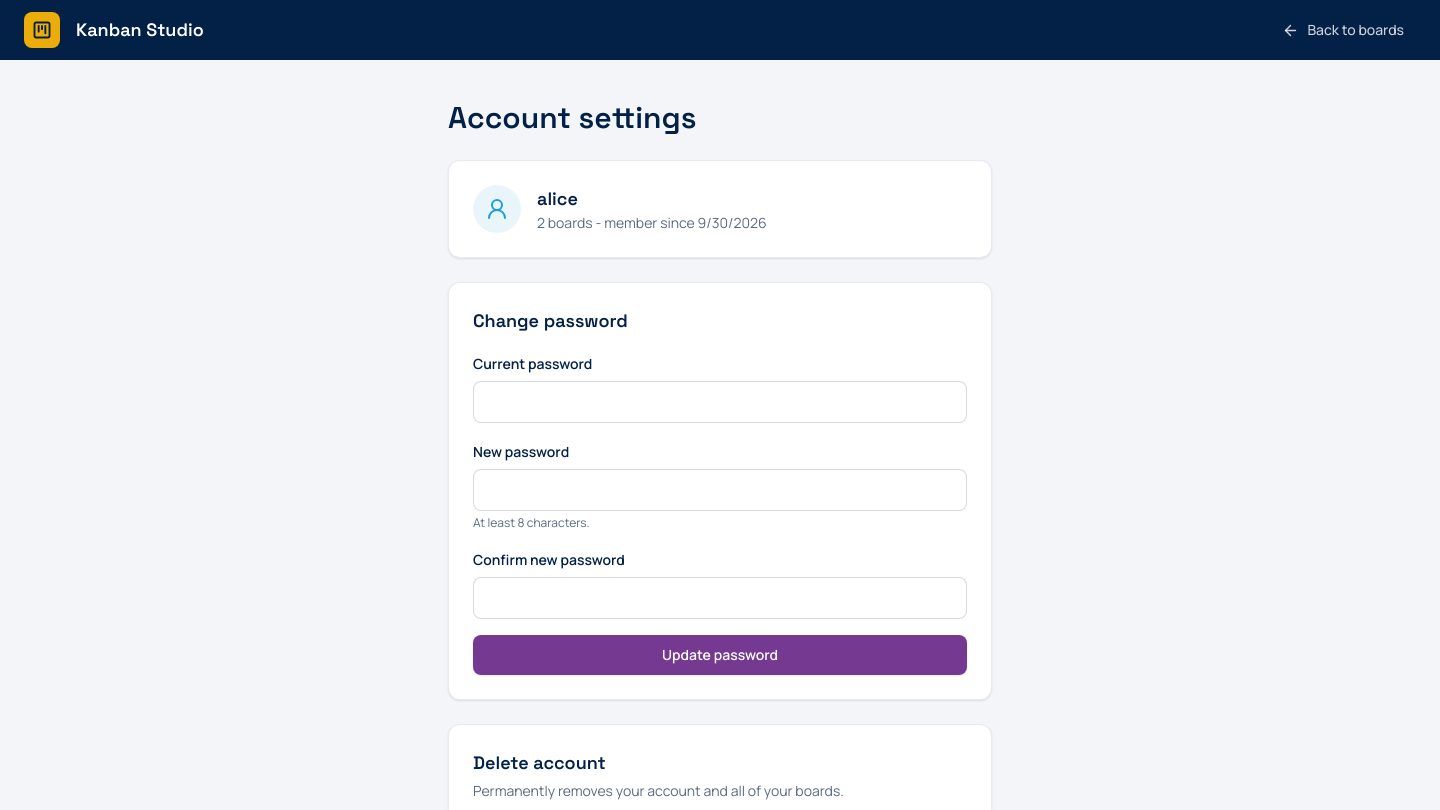
Test: AccountSettings › changes the password and clears the form
The image size is (1440, 810).
Type "old-password" into the password field labelled "Current password" at [720, 402], box [473,381,967,423]
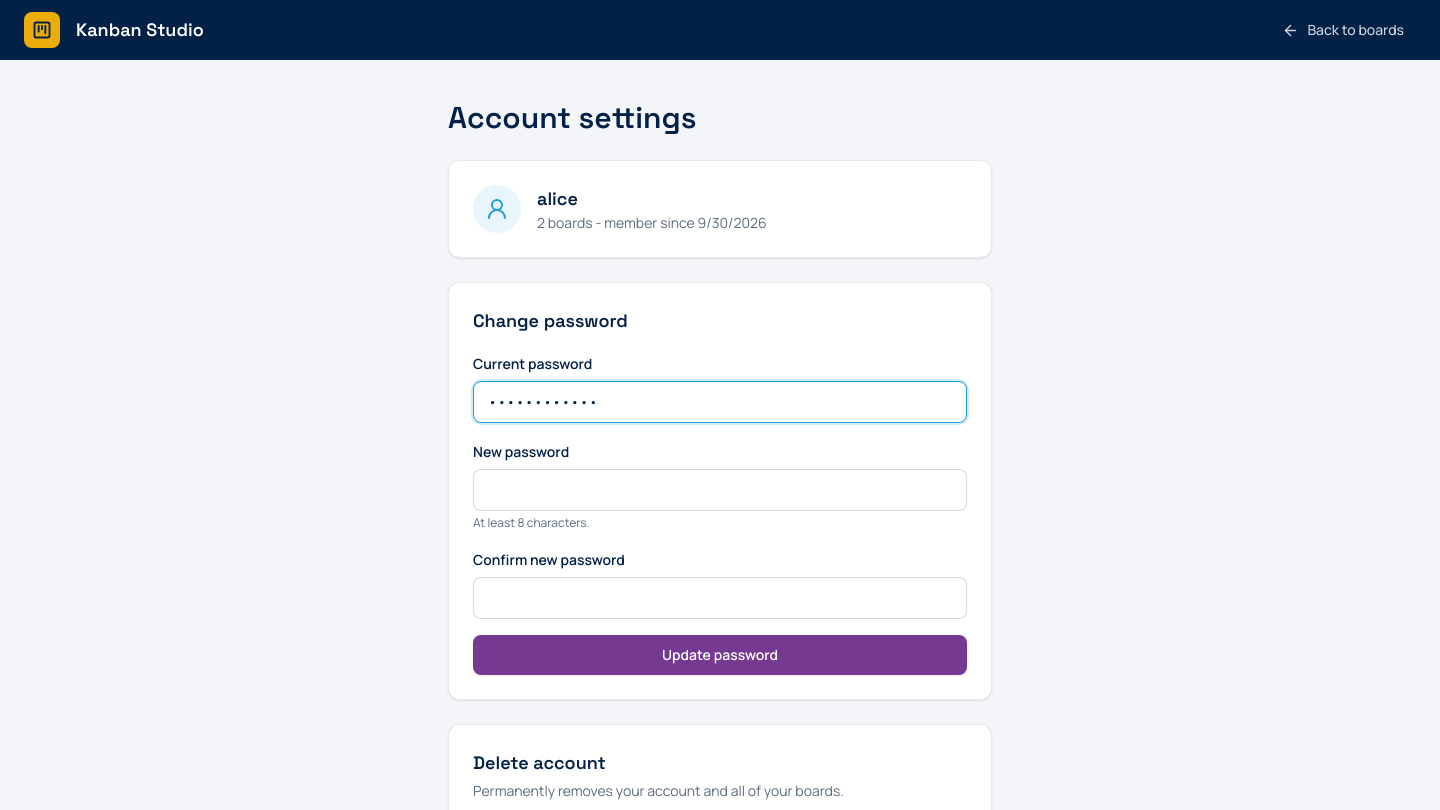
Type "new-password" into the password field labelled "New password" at [720, 490], box [473,469,967,511]
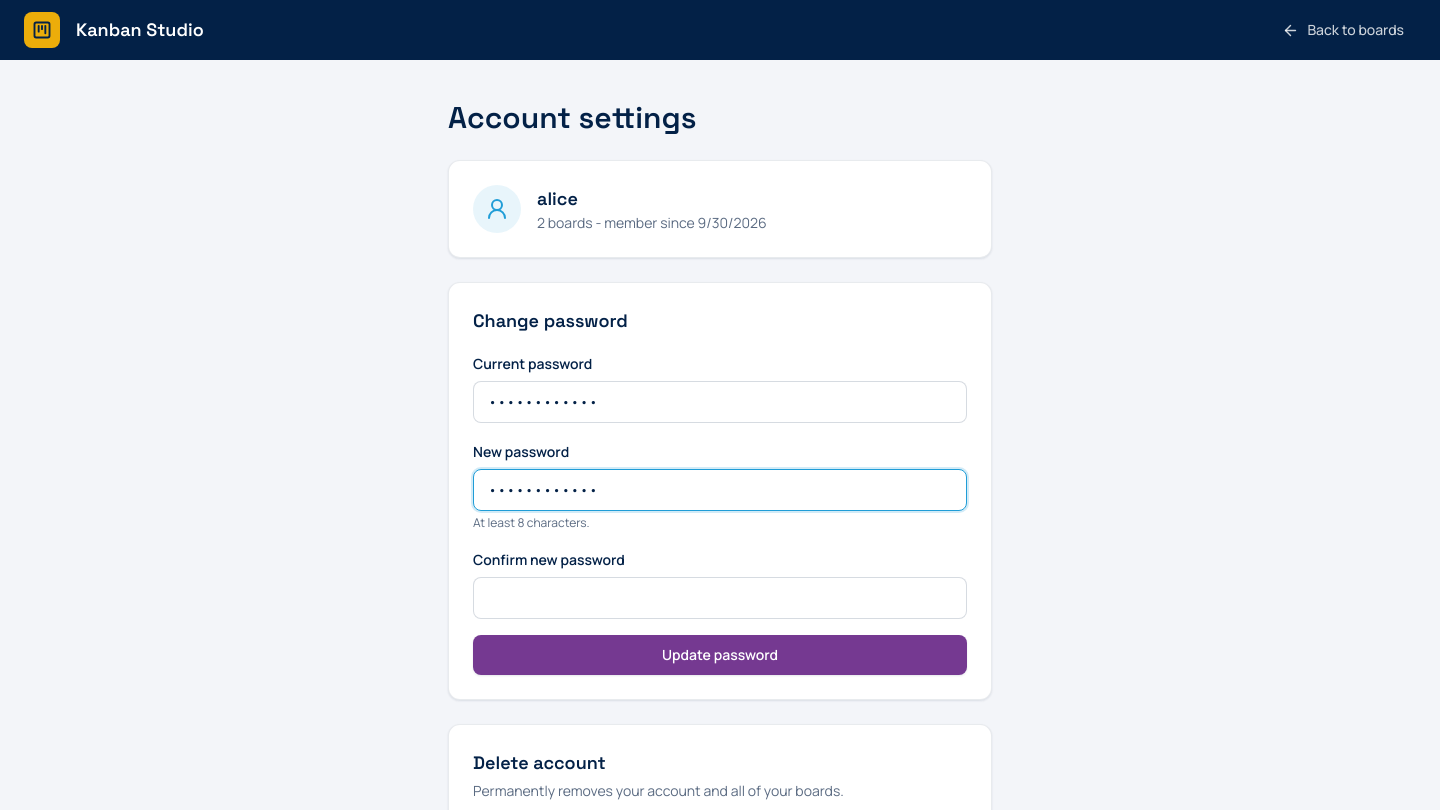
Type "new-password" into the password field labelled "Confirm new password" at [720, 598], box [473,577,967,619]
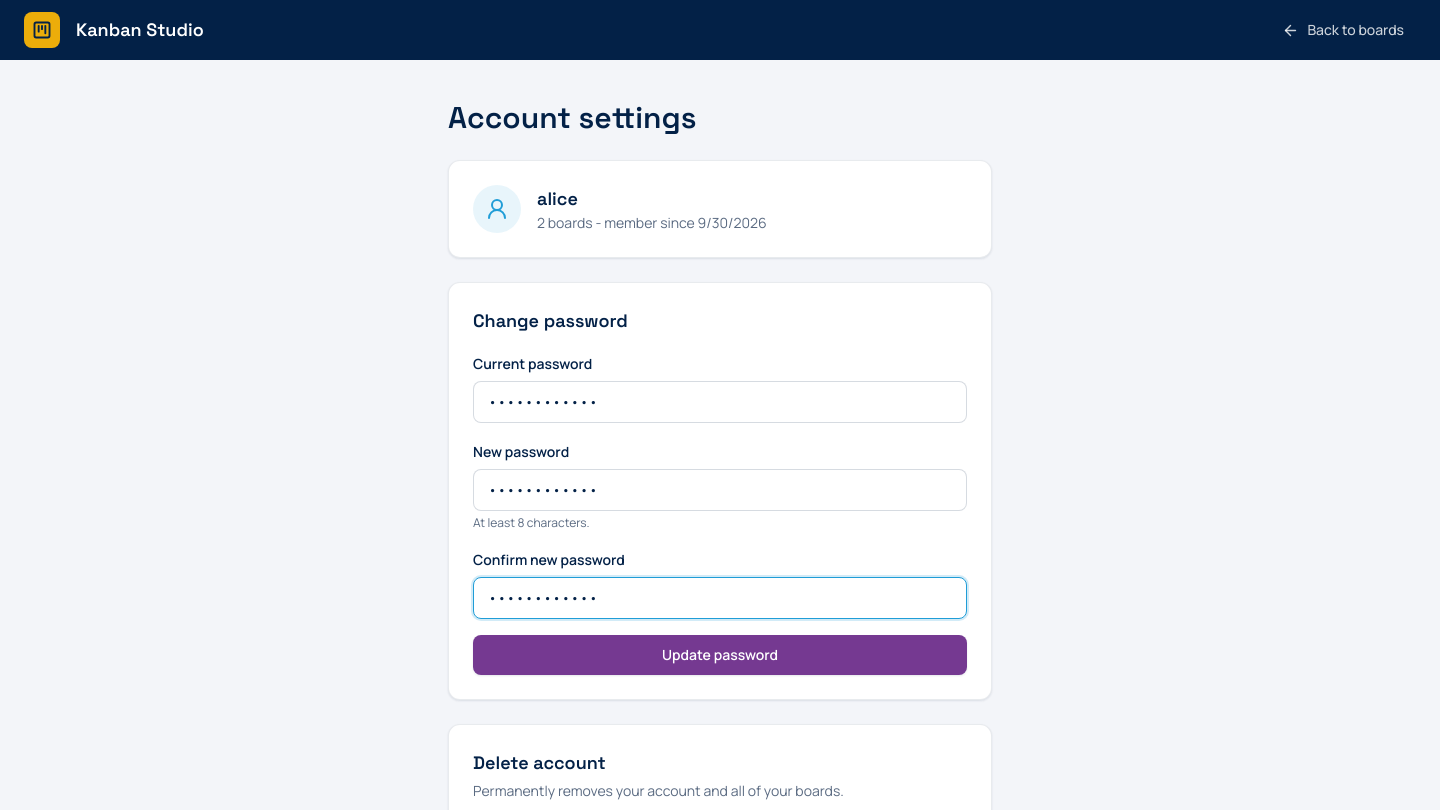
Click the button "Update password" at [720, 655], box [473,635,967,675]
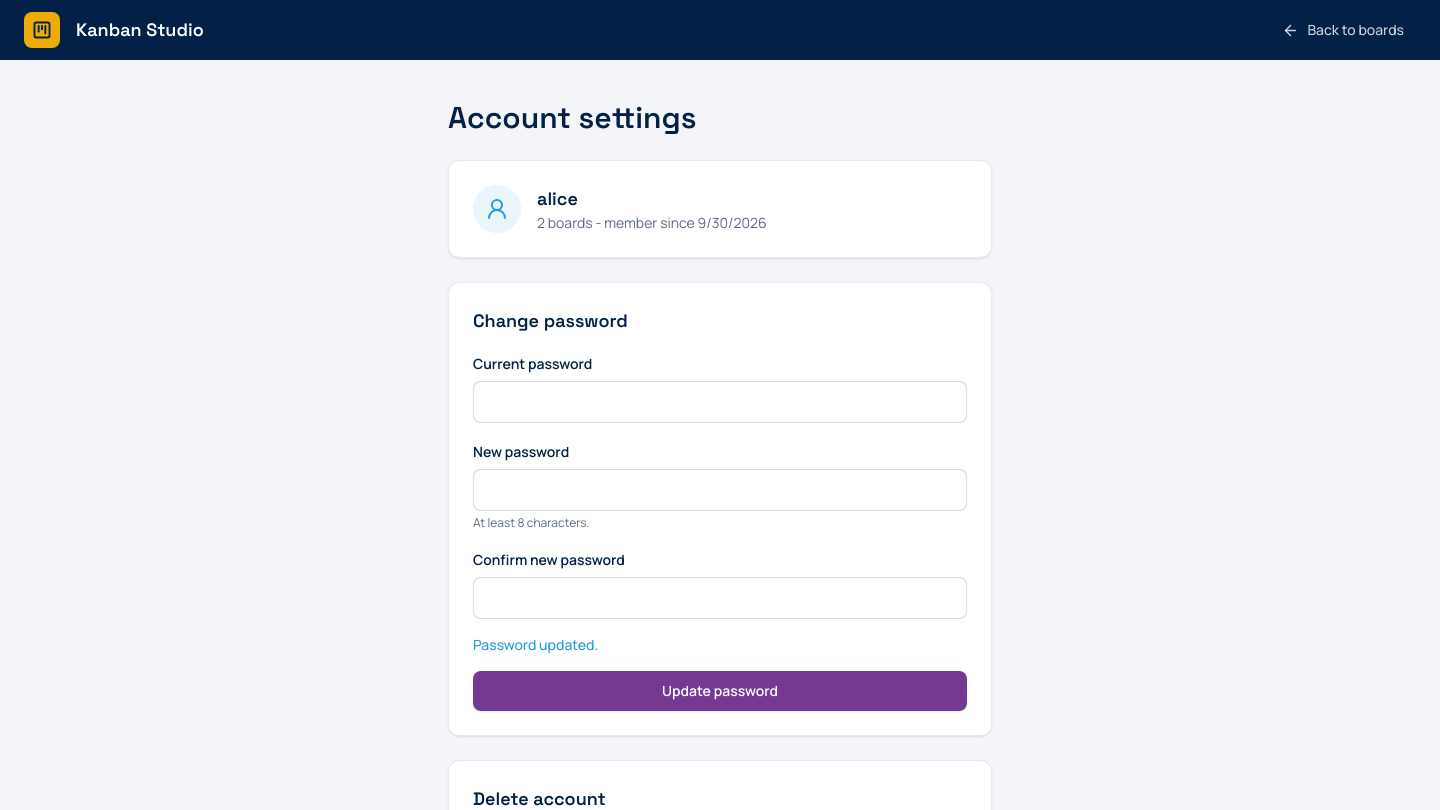
Result: the message reads "Password updated." at [473,635,598,654]
Result: the password field labelled "Current password" is empty at [473,381,967,423]
